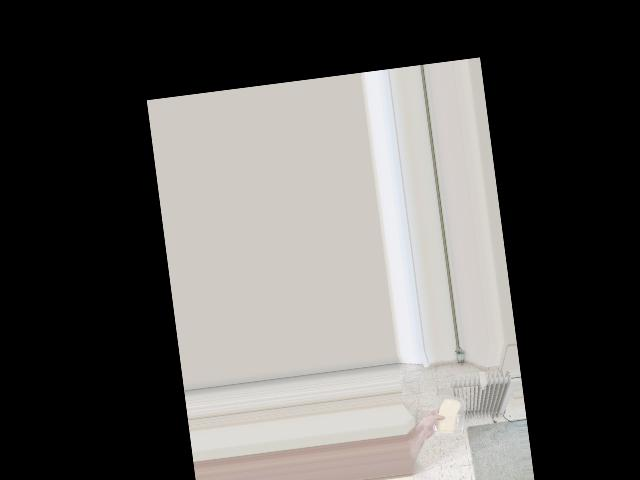cheese: (431, 393, 465, 437)
